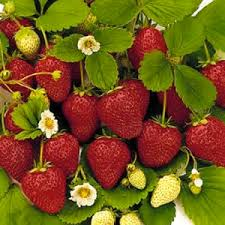Fresa: (96, 74, 152, 142), (83, 132, 135, 192), (136, 113, 184, 173), (20, 161, 69, 215), (184, 111, 225, 170), (61, 88, 104, 143), (127, 21, 170, 75), (33, 52, 77, 104), (40, 127, 82, 179), (1, 132, 39, 184), (1, 54, 39, 104)
